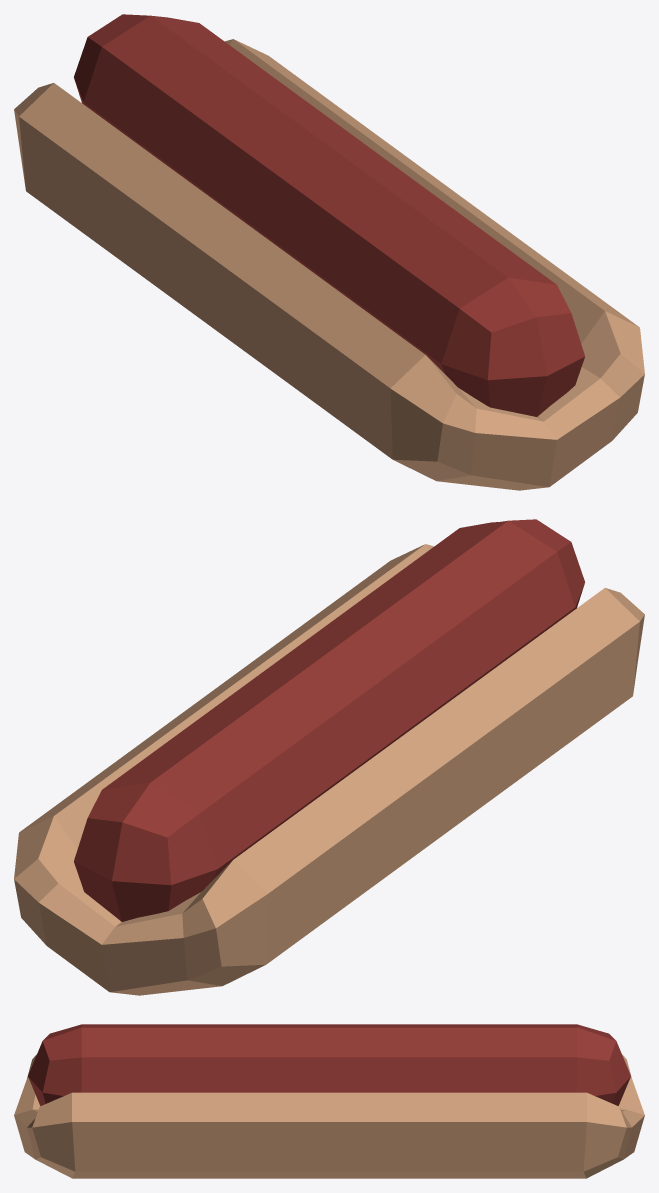
The model's file is HotDogCmpl.fbx.
3 renders of one model, top to bottom at view 1: azimuth 30°, elevation 25°; view 2: azimuth 150°, elevation 25°; view 3: azimuth 270°, elevation 25°, orthographic. The views are drawn at different scales.
Visible parts, largest first — view 1: HotDog_Bun, HotDog; view 2: HotDog_Bun, HotDog; view 3: HotDog_Bun, HotDog.
Part boxes in pixels (x1=…): HotDog_Bun: x1=14, y1=39, x2=644, y2=490; HotDog: x1=74, y1=14, x2=584, y2=416; HotDog_Bun: x1=14, y1=544, x2=644, y2=995; HotDog: x1=74, y1=519, x2=584, y2=921; HotDog_Bun: x1=14, y1=1054, x2=644, y2=1178; HotDog: x1=28, y1=1024, x2=630, y2=1105.
Size of the model in its own units: 5.68 by 4.46 by 17.96.
